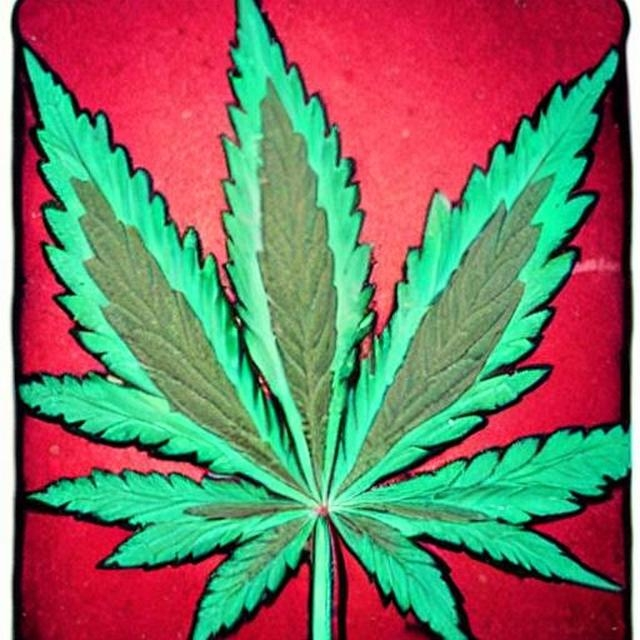Marijuana Leaf: (15, 0, 628, 640)
